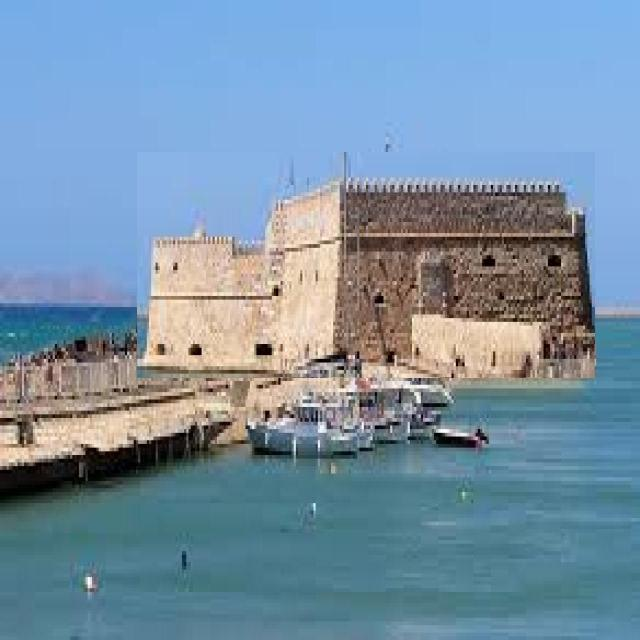Kules: (138, 153, 596, 379)
